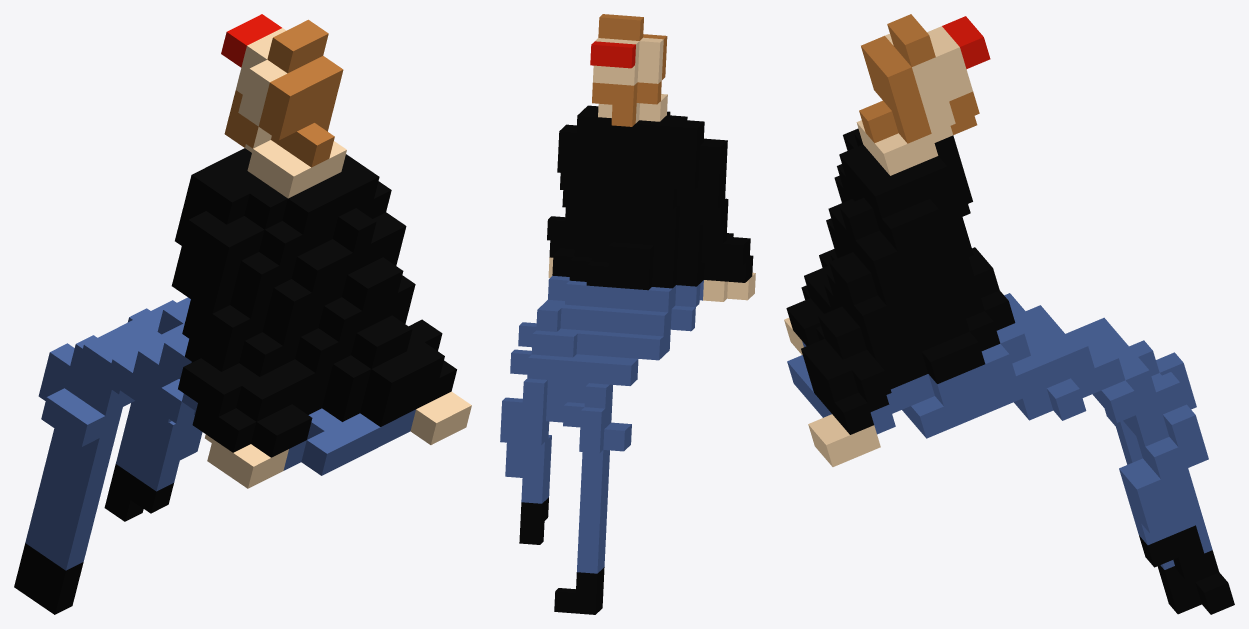
File: mrHands.fbx
3 views of the same model, side by side, from view 1: azimuth 30°, elevation 25°; view 2: azimuth 150°, elevation 25°; view 3: azimuth 270°, elevation 25° (orthographic). The views are drawn at different scales.
Parts seen in each view (by area): view 1: texturedMesh; view 2: texturedMesh; view 3: texturedMesh.
Part boxes in pixels (x1,y1,x2,y2): texturedMesh: (14, 14, 471, 614); texturedMesh: (500, 14, 755, 614); texturedMesh: (784, 14, 1234, 614).
Size of the model in its own units: 38.49 by 89.38 by 58.04.
